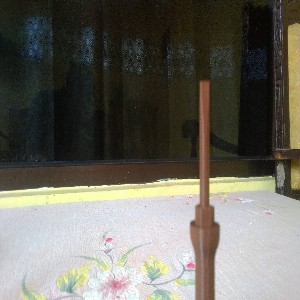obeng: (189, 80, 221, 300)
